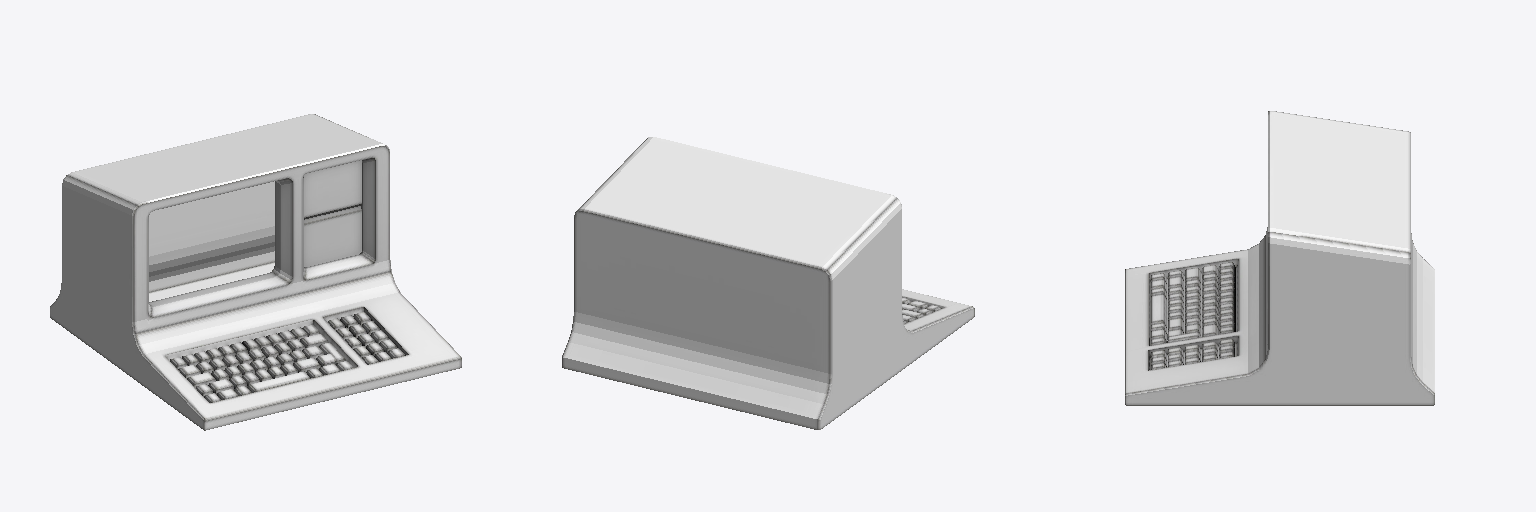
The picture shows the model from 3 angles: view 1: azimuth 30°, elevation 25°; view 2: azimuth 150°, elevation 25°; view 3: azimuth 270°, elevation 25°; orthographic projection.
Parts seen in each view (by area): view 1: pCube22; view 2: pCube22; view 3: pCube22.
Boxes of the visible parts, x1,y1,x2,y2 form: pCube22: [50, 114, 461, 430]; pCube22: [562, 137, 974, 429]; pCube22: [1125, 111, 1434, 405].
Size of the model in its own units: 1.56 by 0.9986 by 1.62.
Materials: 1 (1 with a texture image).